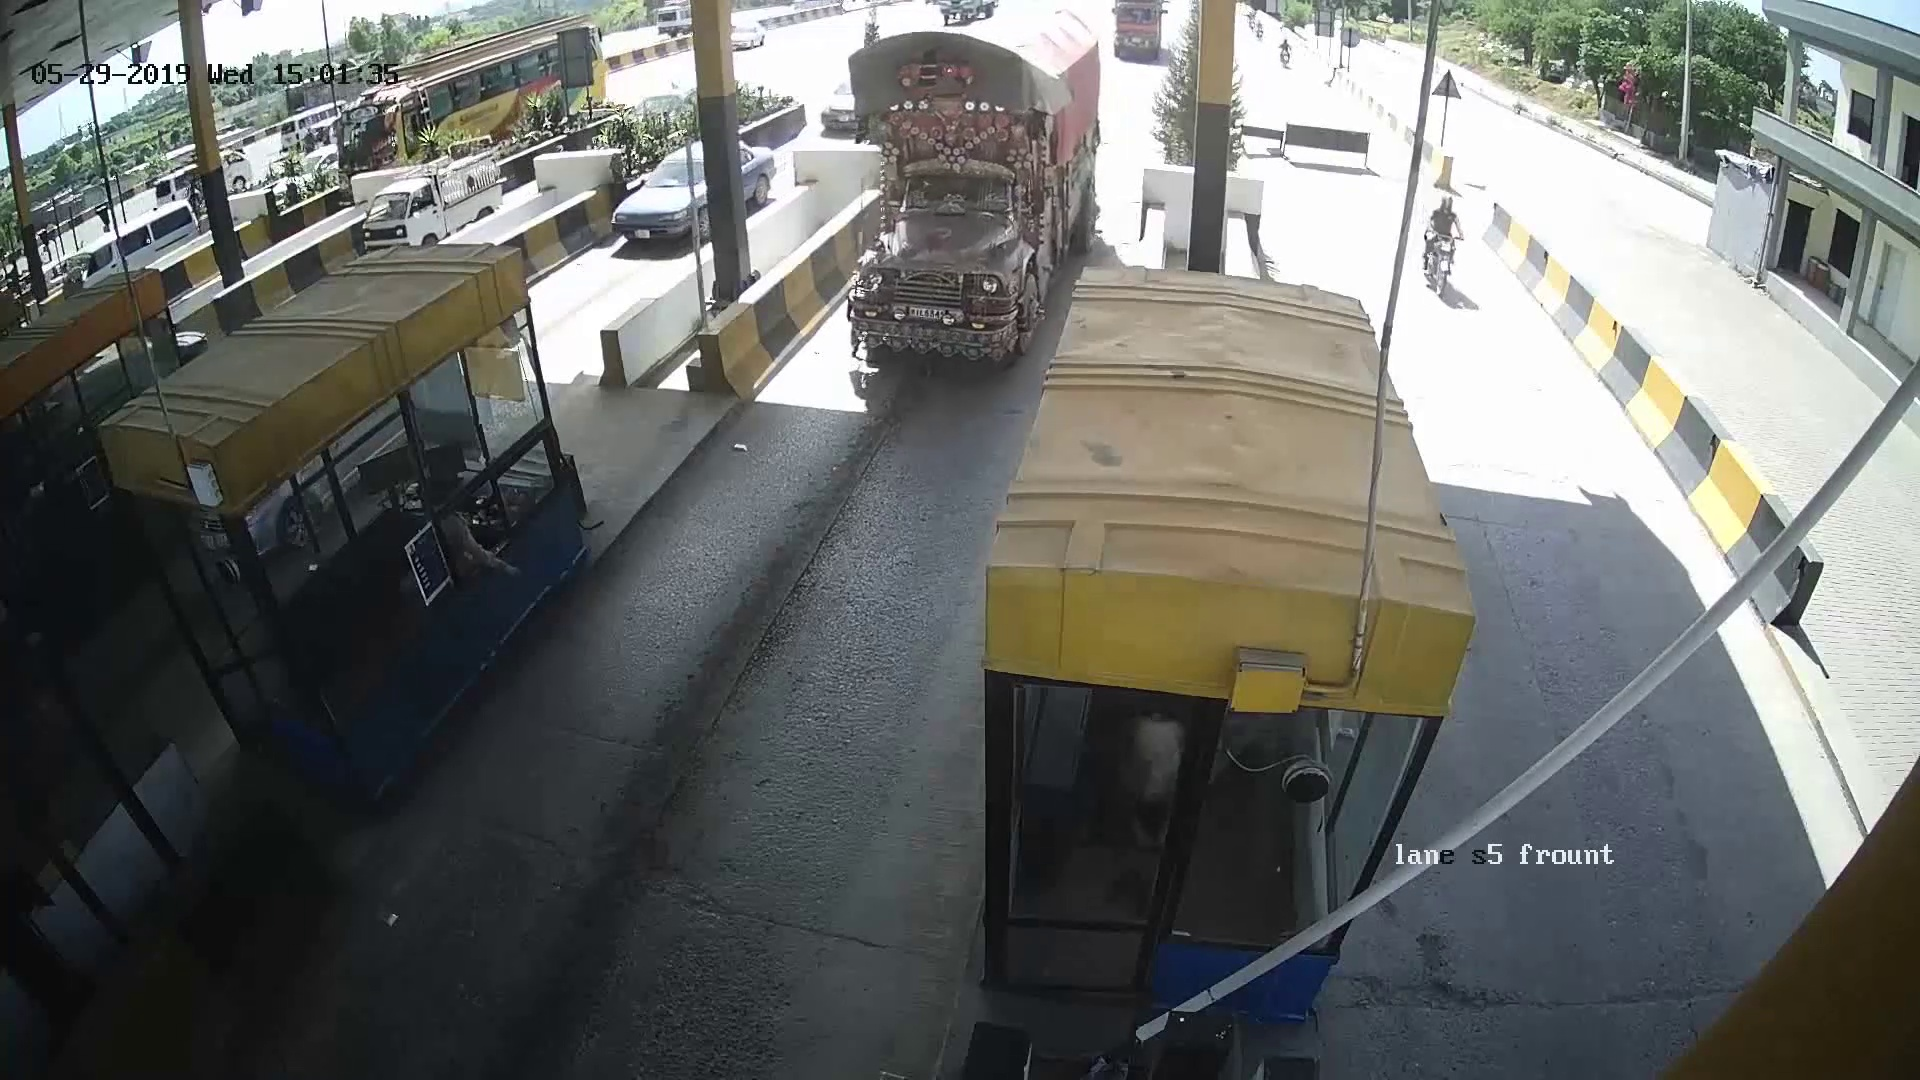truck: (843, 32, 1106, 335)
